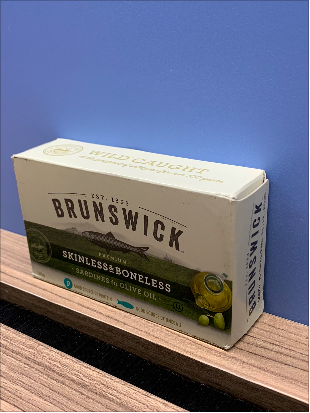Sardines_100-199g: (34, 172, 232, 310)
